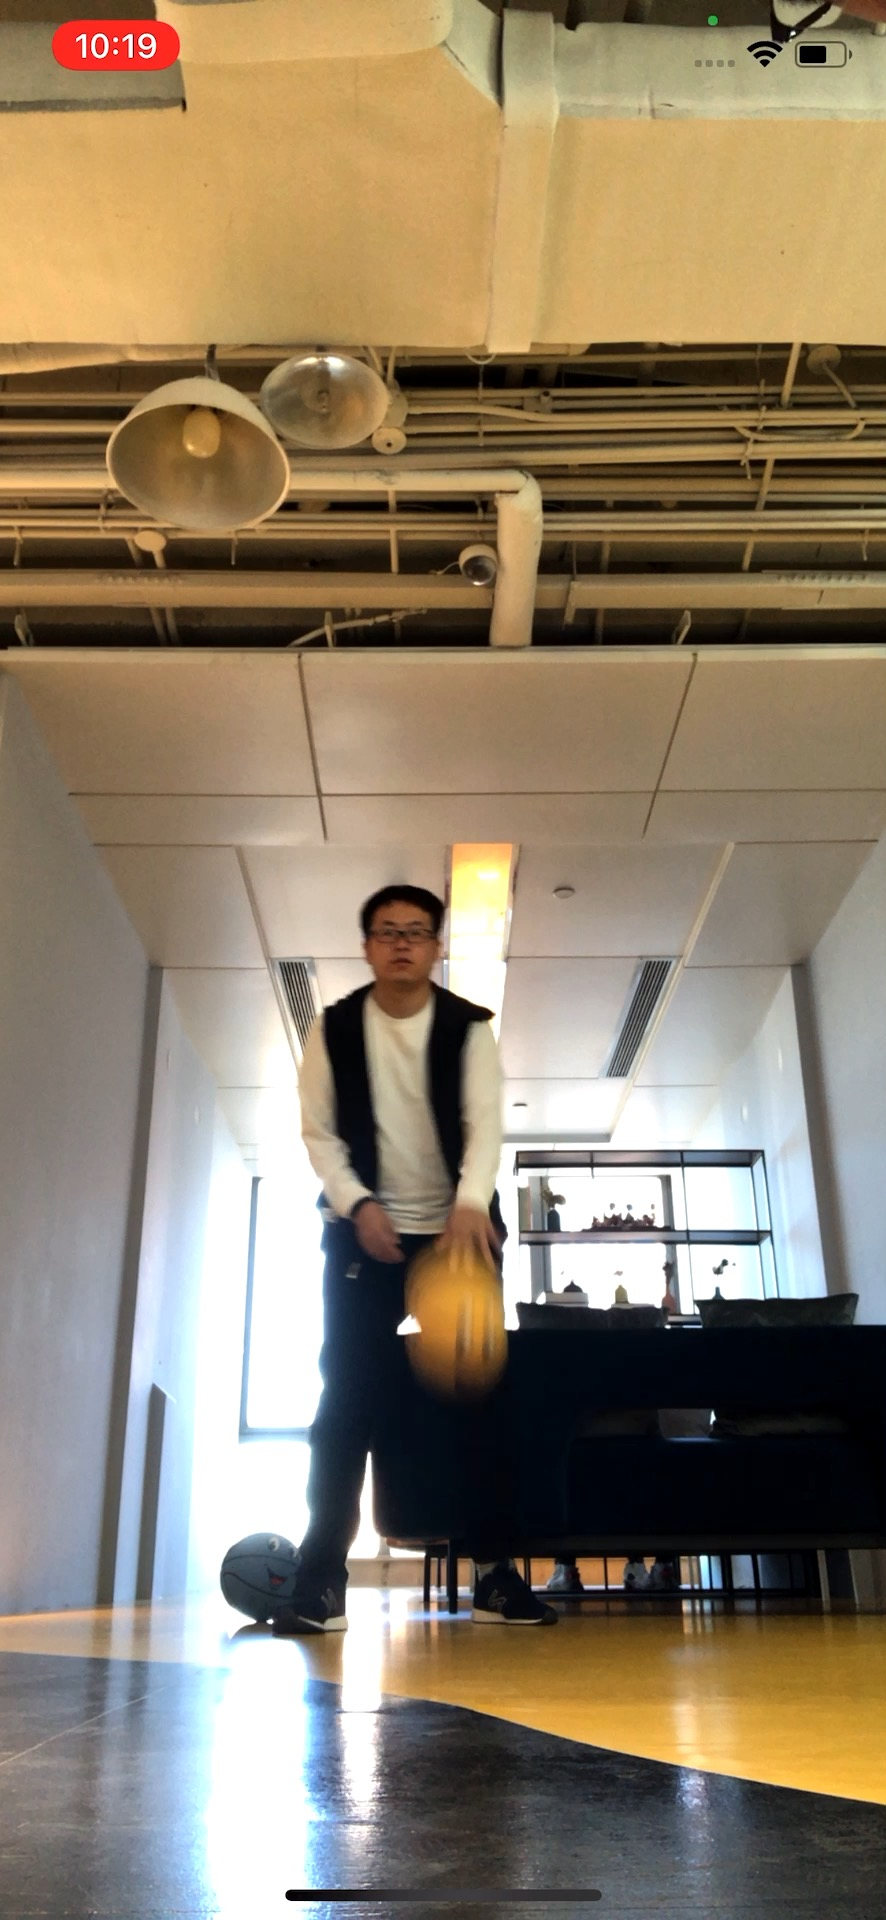ball: (401, 1269, 514, 1389), (218, 1531, 302, 1619)
